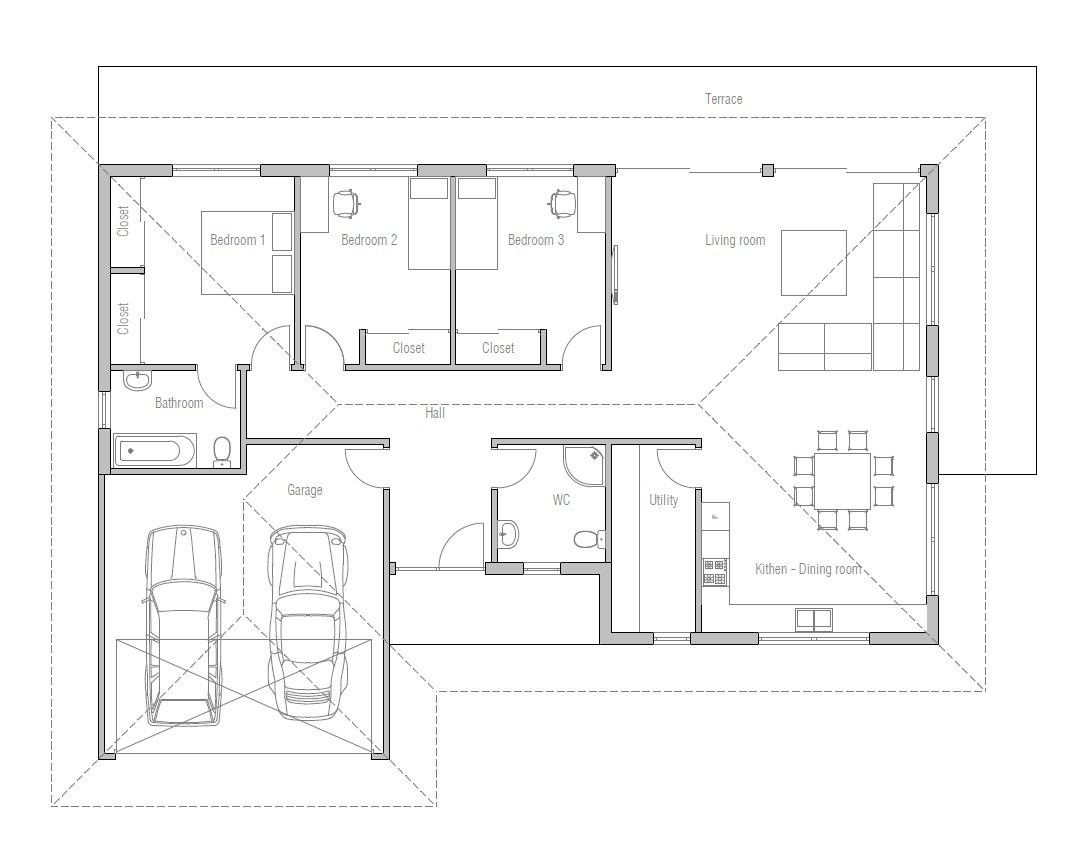door: (555, 317, 608, 363), (303, 316, 349, 362), (338, 447, 384, 490), (188, 375, 242, 410), (506, 445, 541, 498), (653, 447, 693, 488)
room: (603, 168, 941, 386), (692, 434, 940, 649), (93, 168, 301, 365), (453, 165, 614, 368), (295, 169, 453, 375)
